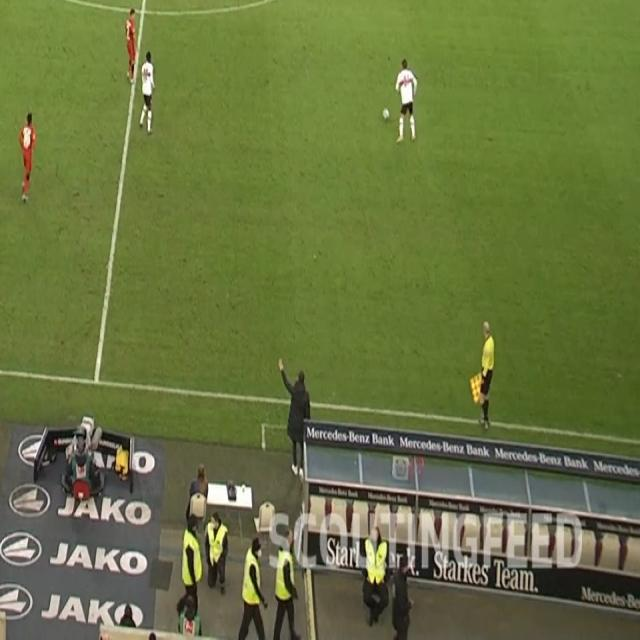ball: (382, 106, 391, 123)
